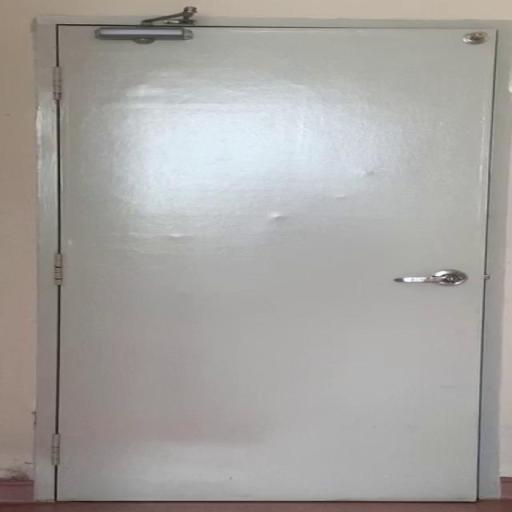door: (45, 19, 499, 503)
